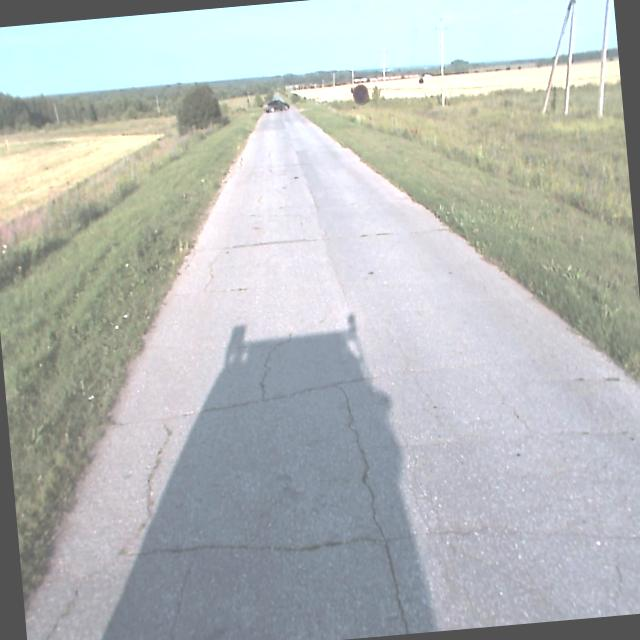road: (24, 111, 640, 640)
